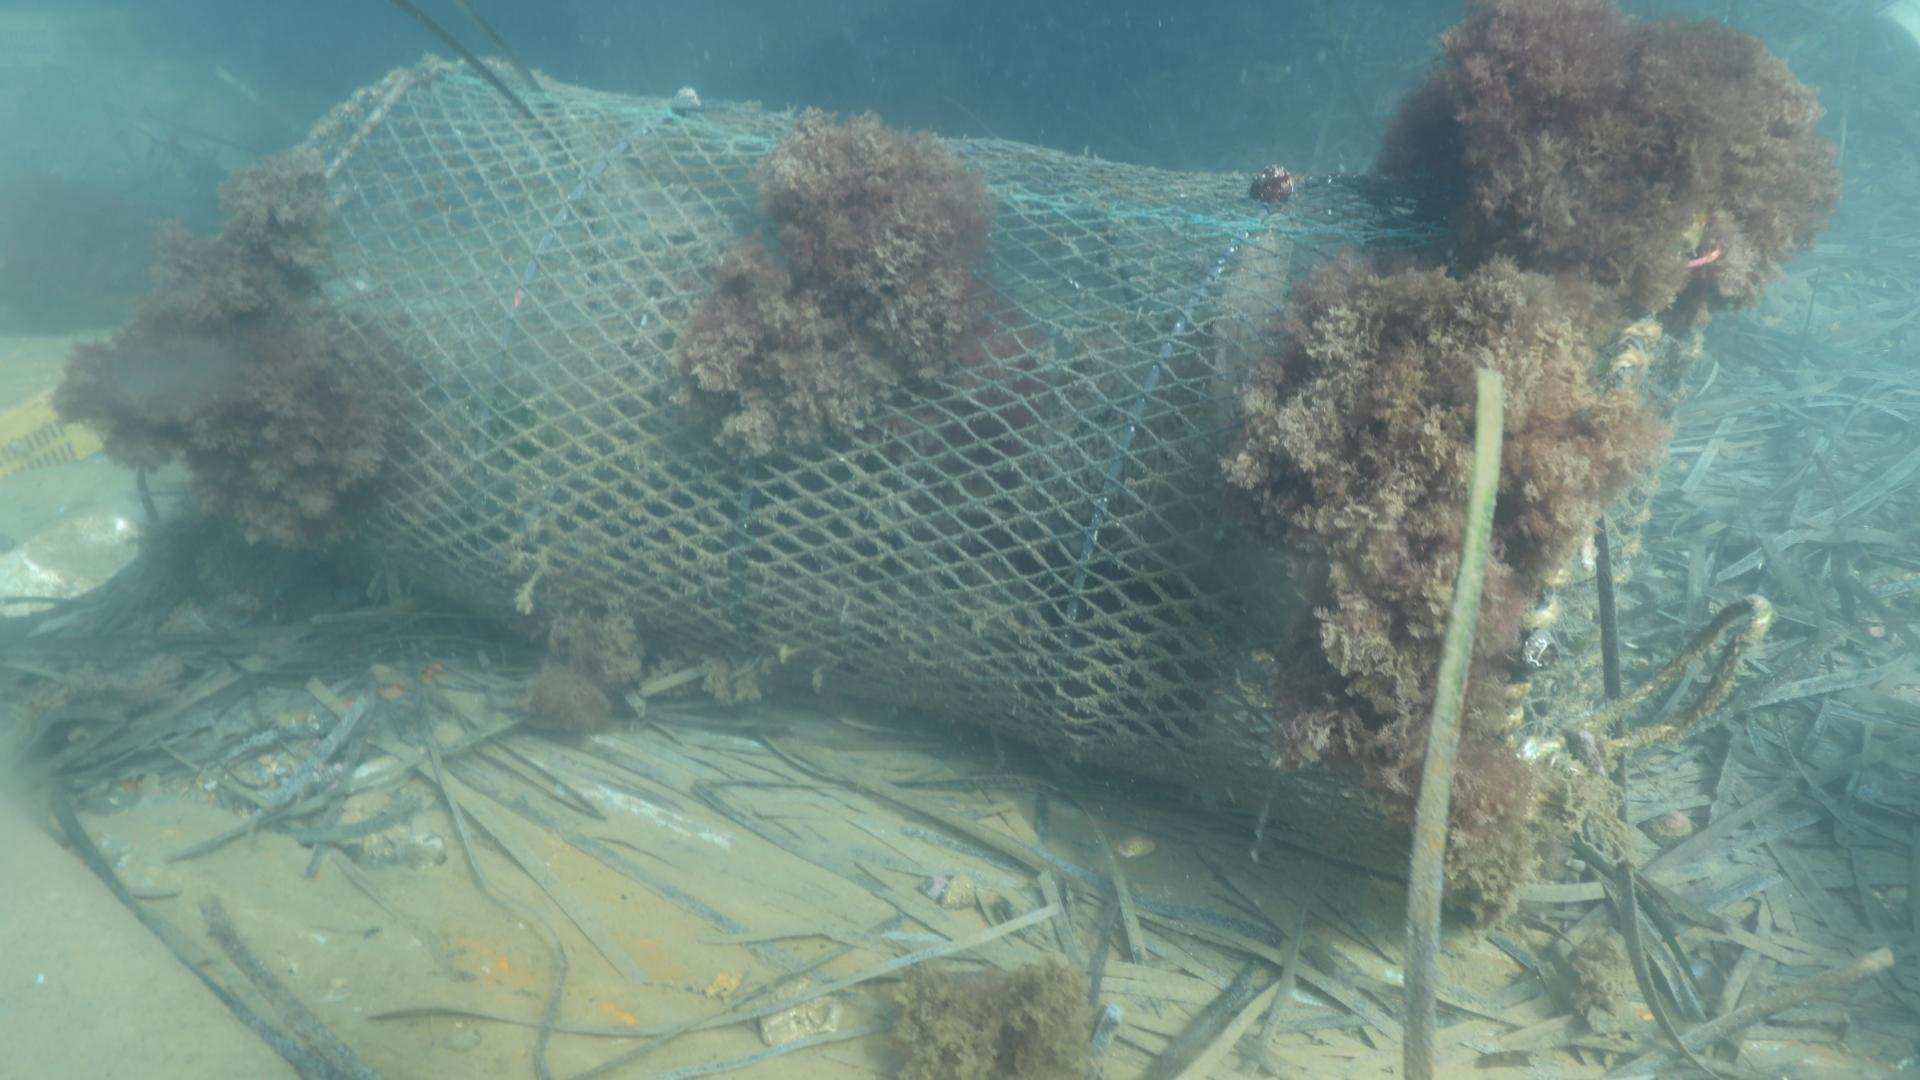spring fish trap: (297, 47, 1708, 914)
